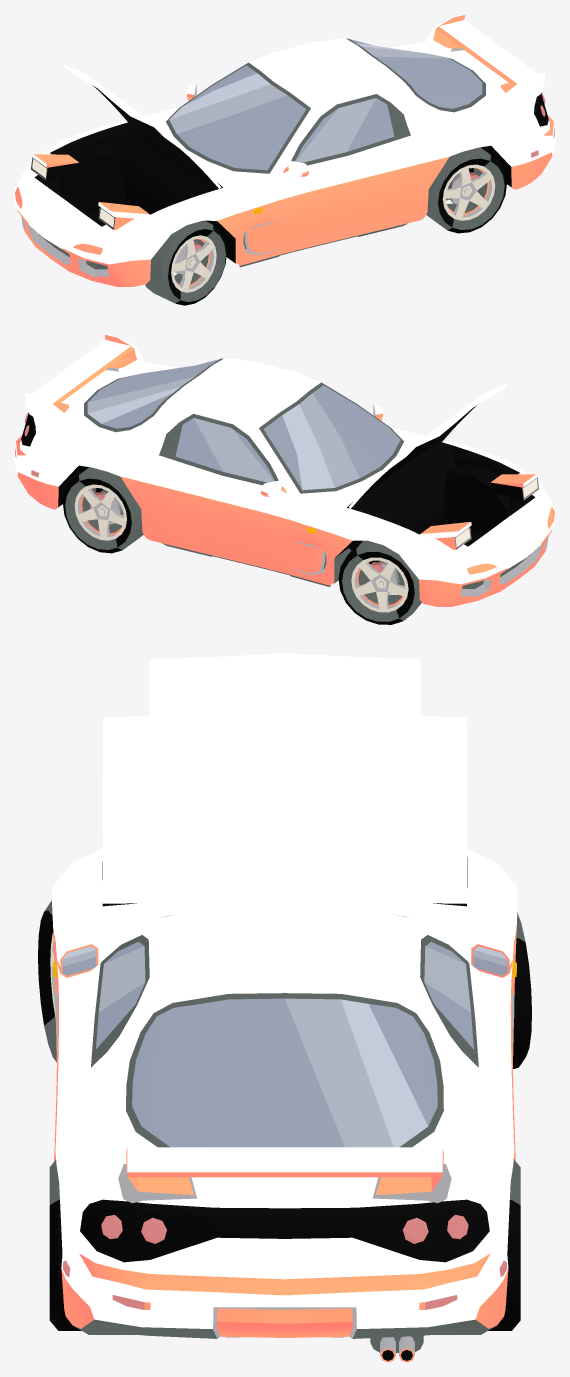
The model's file is RX7OpenCap.fbx.
3 renders of one model, top to bottom at view 1: azimuth 30°, elevation 25°; view 2: azimuth 150°, elevation 25°; view 3: azimuth 270°, elevation 25°, orthographic. The views are drawn at different scales.
Parts seen in each view (by area): view 1: Low Poly Rx7.041, Low Poly Rx7.026, Low Poly Rx7.022, Low Poly Rx7.002; view 2: Low Poly Rx7.041, Low Poly Rx7.026, Low Poly Rx7.001, Low Poly Rx7.002; view 3: Low Poly Rx7.041, Low Poly Rx7.002, Low Poly Rx7.026, Low Poly Rx7.001, Low Poly Rx7.022.
Part boxes in pixels (box(x1,y1,x2,y2)): Low Poly Rx7.041: box(14, 14, 555, 286); Low Poly Rx7.026: box(426, 147, 506, 233); Low Poly Rx7.022: box(145, 220, 226, 305); Low Poly Rx7.002: box(63, 64, 221, 188); Low Poly Rx7.041: box(14, 334, 555, 606); Low Poly Rx7.026: box(62, 467, 143, 553); Low Poly Rx7.001: box(338, 540, 421, 624); Low Poly Rx7.002: box(349, 384, 506, 508); Low Poly Rx7.041: box(52, 848, 517, 1362); Low Poly Rx7.002: box(102, 653, 467, 903); Low Poly Rx7.026: box(49, 1159, 520, 1330); Low Poly Rx7.001: box(513, 912, 531, 1068); Low Poly Rx7.022: box(38, 901, 56, 1062).
Bounding box in the file's own units: 573 × 212 × 254.
